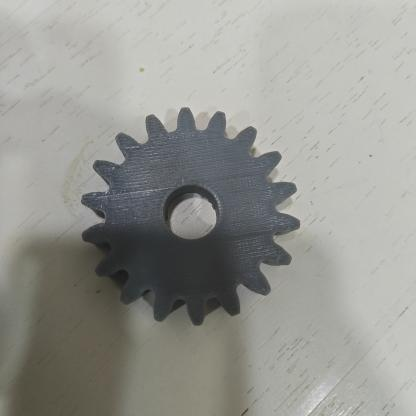gear: (70, 99, 310, 334)
